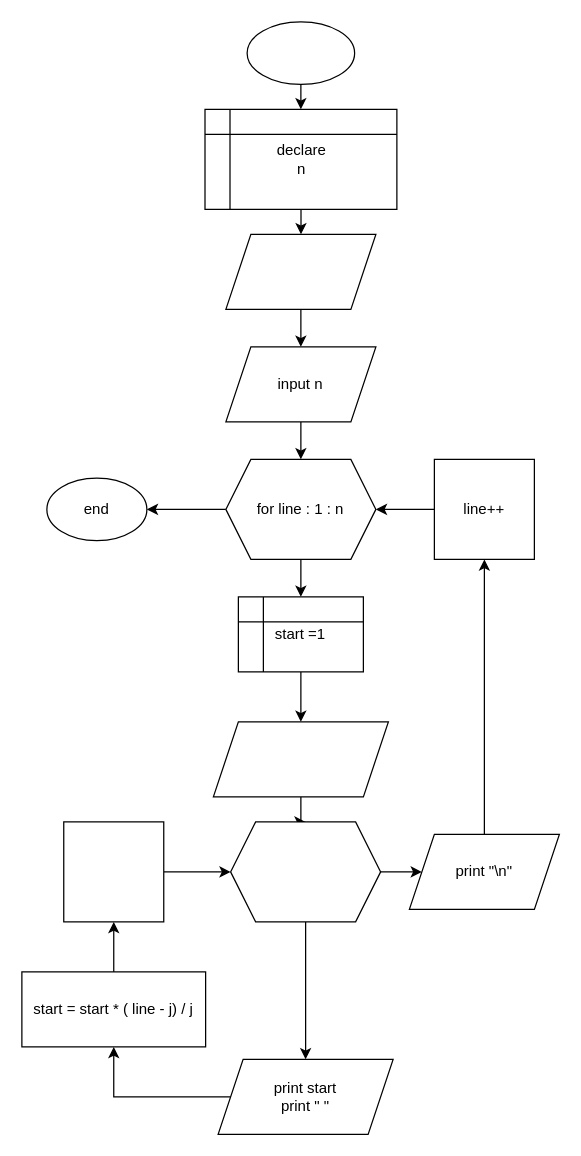
This 581x1156 diagram has some shape labels left out. The shapes that lost their labels are listed below. From the top down, each one's centre as x and y in pixels, then its label:
pixel 300 52: start
pixel 300 271: print "input n ?"
pixel 300 759: print " " * (n - line)
pixel 113 871: j++
pixel 305 871: for j : 1 : n
